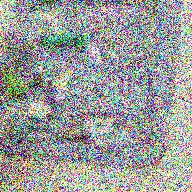러키펜정: (27, 101, 52, 119)
씨엠지세파클러캡슐: (45, 73, 71, 107)
에르도캡슐: (44, 30, 91, 47)
휴티렌정: (4, 73, 27, 99)
